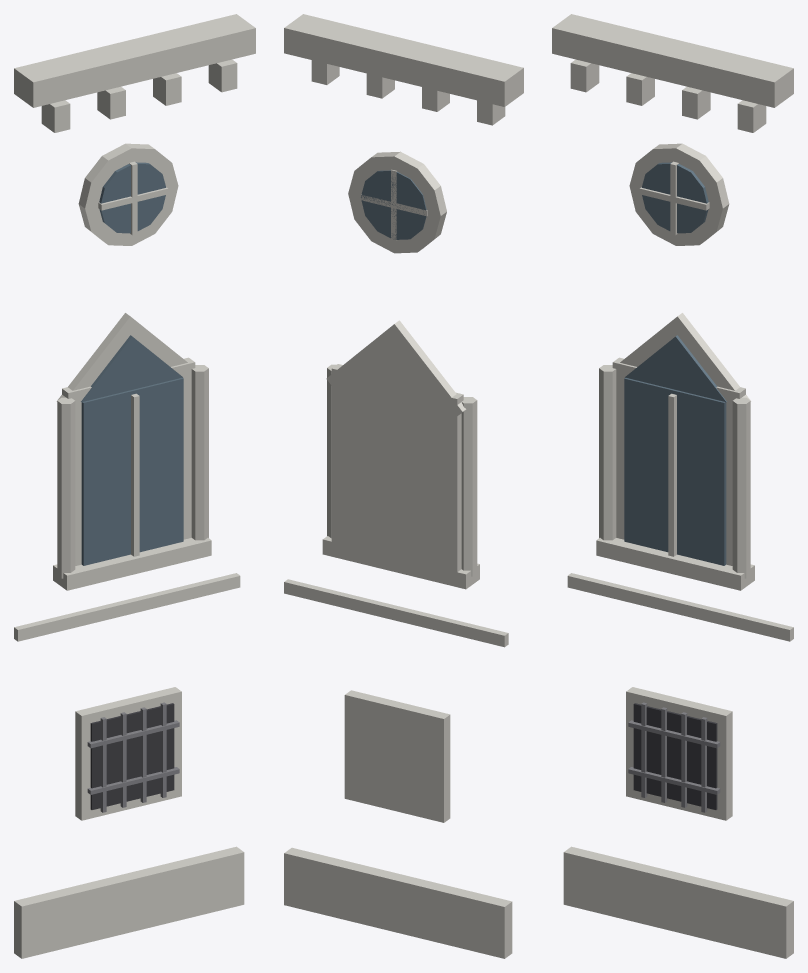
The model's file is VN_Fachada_C.fbx.
The picture shows the model from 3 angles, left to right: view 1: azimuth 30°, elevation 25°; view 2: azimuth 150°, elevation 25°; view 3: azimuth 330°, elevation 25°; orthographic projection.
Visible parts, largest first — view 1: VN_Fachada_C; view 2: VN_Fachada_C; view 3: VN_Fachada_C.
Part boxes in pixels (x1,y1,x2,y2): VN_Fachada_C: (14,14,255,958); VN_Fachada_C: (284,14,523,958); VN_Fachada_C: (552,14,793,958).
Size of the model in its own units: 2 by 7.6 by 0.33.
